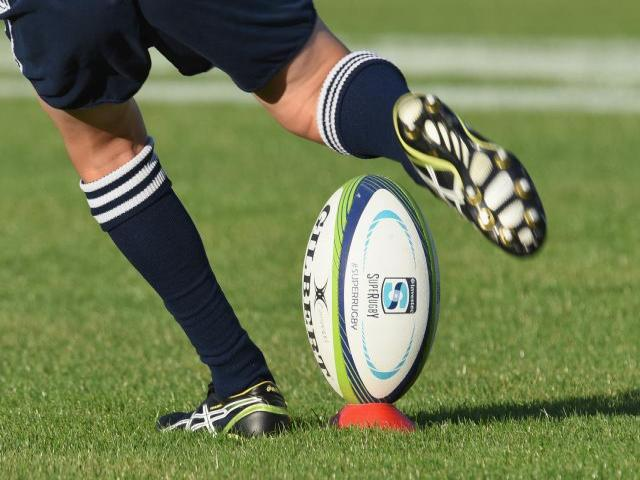round ball: (302, 175, 439, 403)
